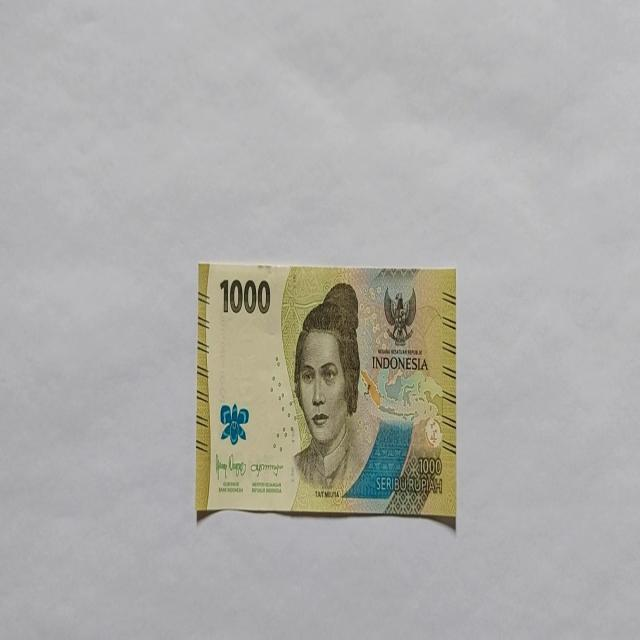seribu rupiah kertas: (194, 260, 456, 522)
